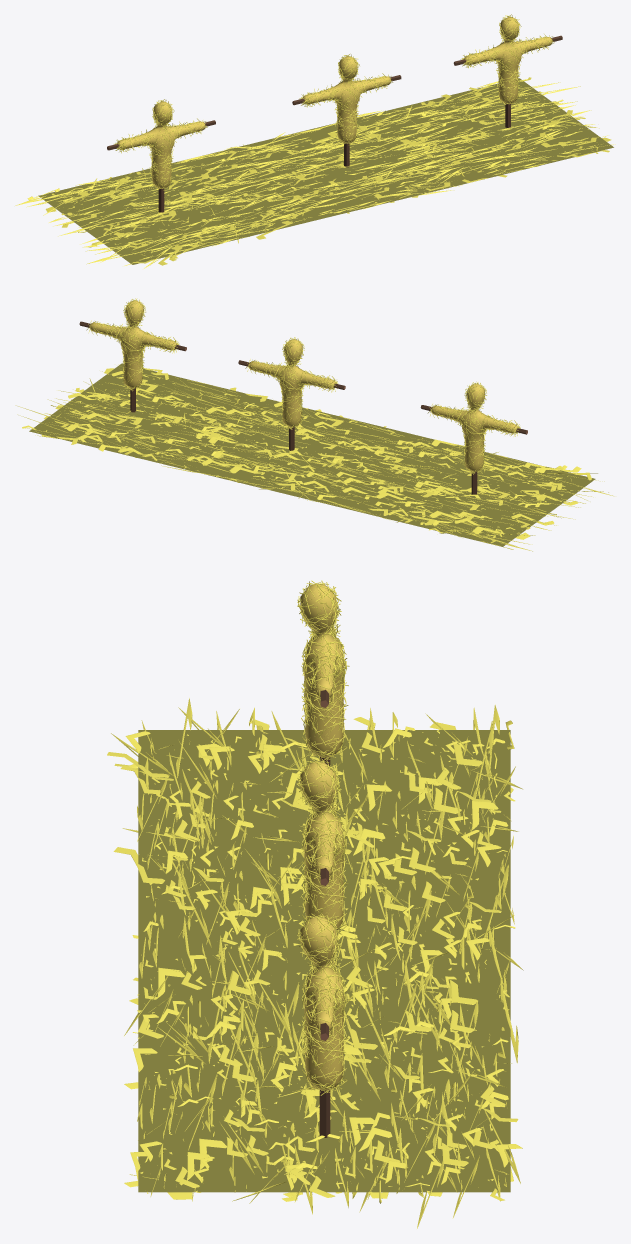
Rendered from TrainingDummy.fbx.
3 renders of one model, top to bottom at view 1: azimuth 30°, elevation 25°; view 2: azimuth 150°, elevation 25°; view 3: azimuth 270°, elevation 25°, orthographic. The views are drawn at different scales.
Visible parts, largest first — view 1: Plane, Cube, Cube.001, Cube.002; view 2: Plane, Cube.001, Cube, Cube.002; view 3: Plane, Cube.002, Cube, Cube.001.
Boxes of the visible parts, <box> form: Plane: <box>38,78,613,264</box>; Cube: <box>117,101,205,188</box>; Cube.001: <box>303,56,390,143</box>; Cube.002: <box>464,17,552,103</box>; Plane: <box>29,363,595,546</box>; Cube.001: <box>249,339,335,427</box>; Cube: <box>431,384,517,471</box>; Cube.002: <box>90,300,176,388</box>; Plane: <box>138,730,510,1192</box>; Cube.002: <box>300,916,344,1090</box>; Cube: <box>300,583,344,757</box>; Cube.001: <box>300,761,344,929</box>.
Bounding box in the file's own units: 7512 × 1478 × 2485.
